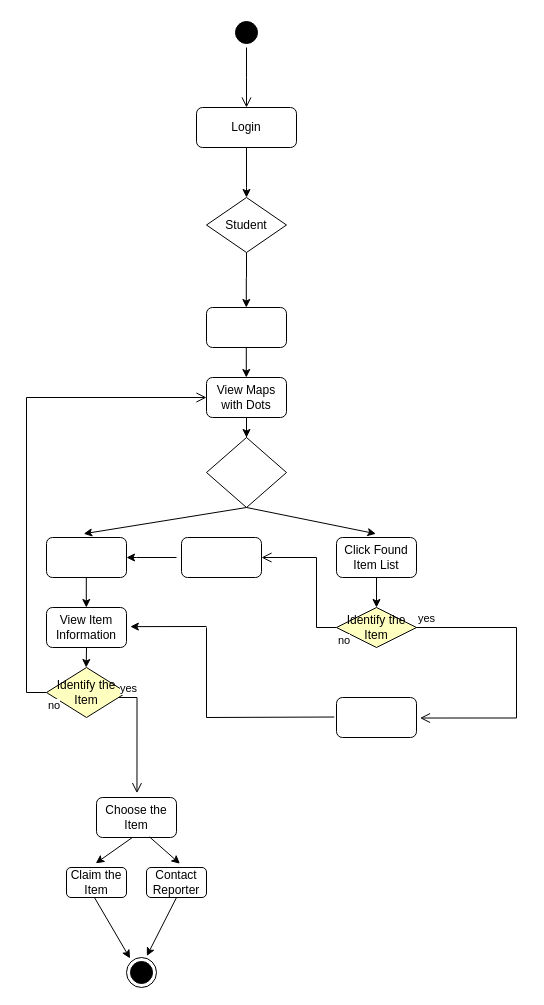
Image size: 544x1005. Some labels were removed from this diagram. The shapes that lost their labels are listed below. From the top down, each one's centre as x and y in pixels, then its label:
At point (246, 327): "Home".
At point (246, 472): "Choose Map or List".
At point (86, 557): "Click Dots".
At point (221, 557): "View on Map".
At point (376, 717): "Choose Item".
